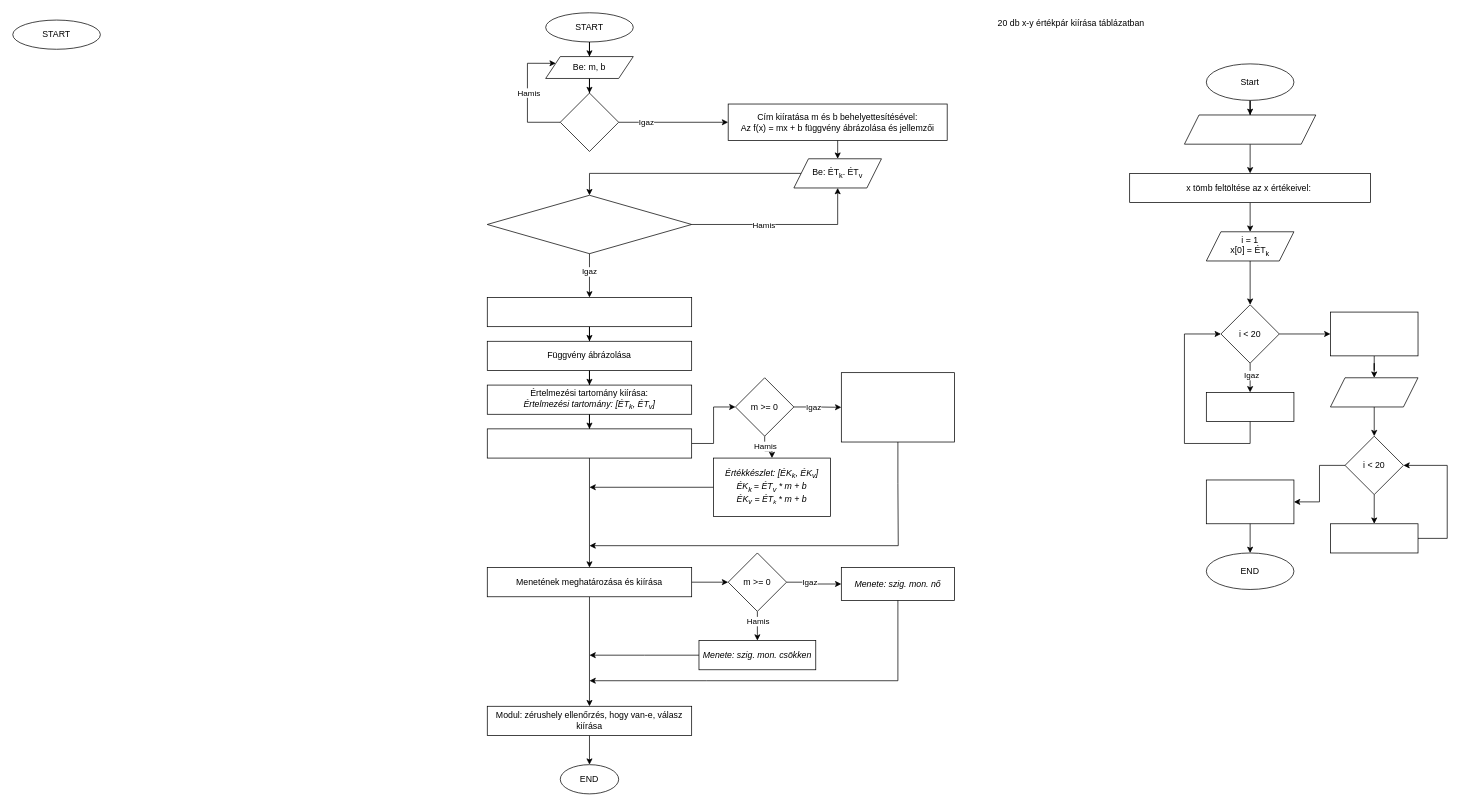
Image size: 1466x807. Some labels were removed from this diagram. The box of each missing label's shape, as (x1, y1, x2, y2) in pixels:
be: ÉTk, ÉTv, m, b d = ÉTv- ÉTk: (1184, 114, 1316, 144)
i = 0: (1330, 377, 1418, 407)
m és b számok?: (560, 92, 619, 151)
Modul: 20 db x-y számpáros kiírása: (487, 297, 692, 327)
Táblázat kirajzolása és feltöltése x és y értékpárokkal: (1206, 479, 1294, 524)
x[i] = x[i-i] + d i = i + 1: (1206, 392, 1294, 422)
y tömb feltöltése az y értékekkel: (1330, 311, 1418, 356)
y[i] = m * x[i] + b i = i + 1: (1330, 523, 1418, 553)
Értékkészlet meghatározása és kiírása: (487, 428, 692, 458)
Értékkészlet: [ÉK k , ÉK v ] ÉK k = ÉTk * m + b ÉK v = ÉT v * m + b: (841, 372, 954, 442)
ÉT k és ÉT v számok és ábrázolható tartományon belül vannak: (487, 195, 692, 254)
